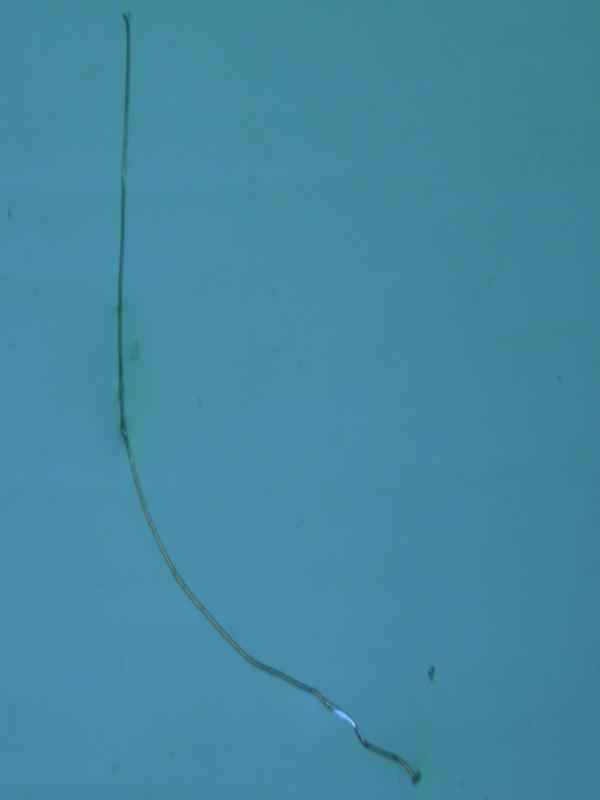microplastic: (113, 8, 422, 788)
